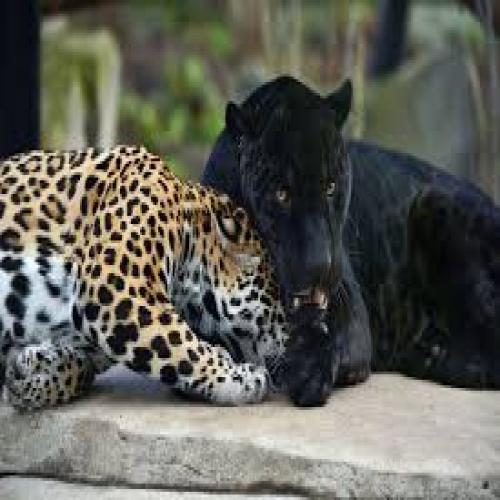panther-endangered: (205, 73, 500, 408)
